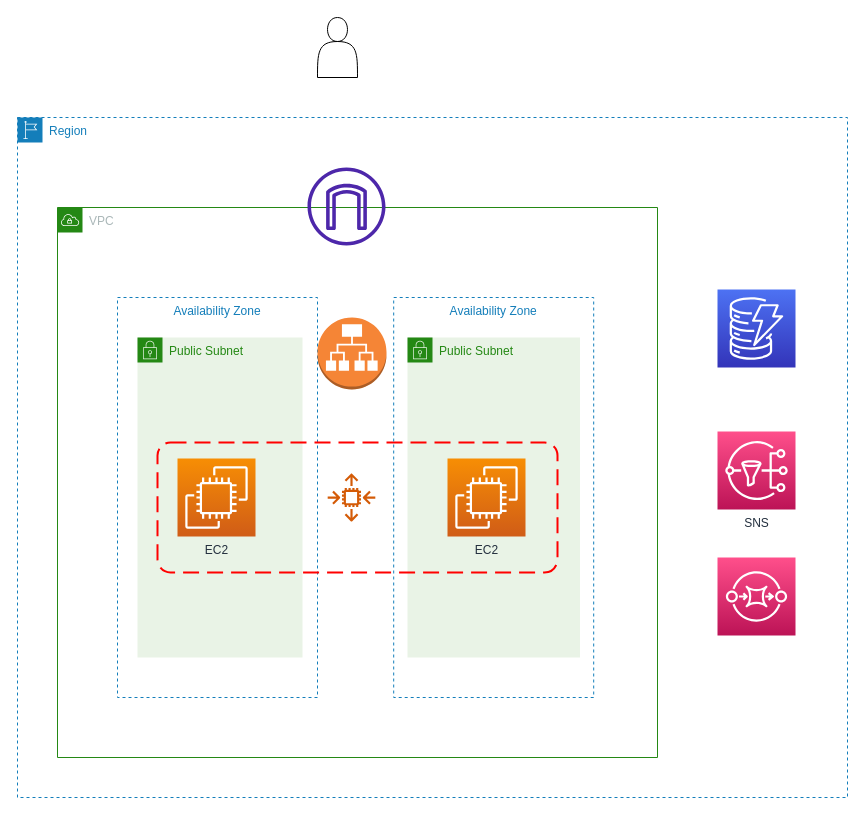
This 865x815 diagram has some shape labels left out. Here are the shapes that lost their labels. From the top down, the centre of each, then its label:
At point 346,206: "Internet Gateway".
At point 756,328: "DynamoDB".
At point 351,353: "Application Load Balancer".
At point 351,497: "Auto Scaling Group".
At point 756,596: "SQS".
